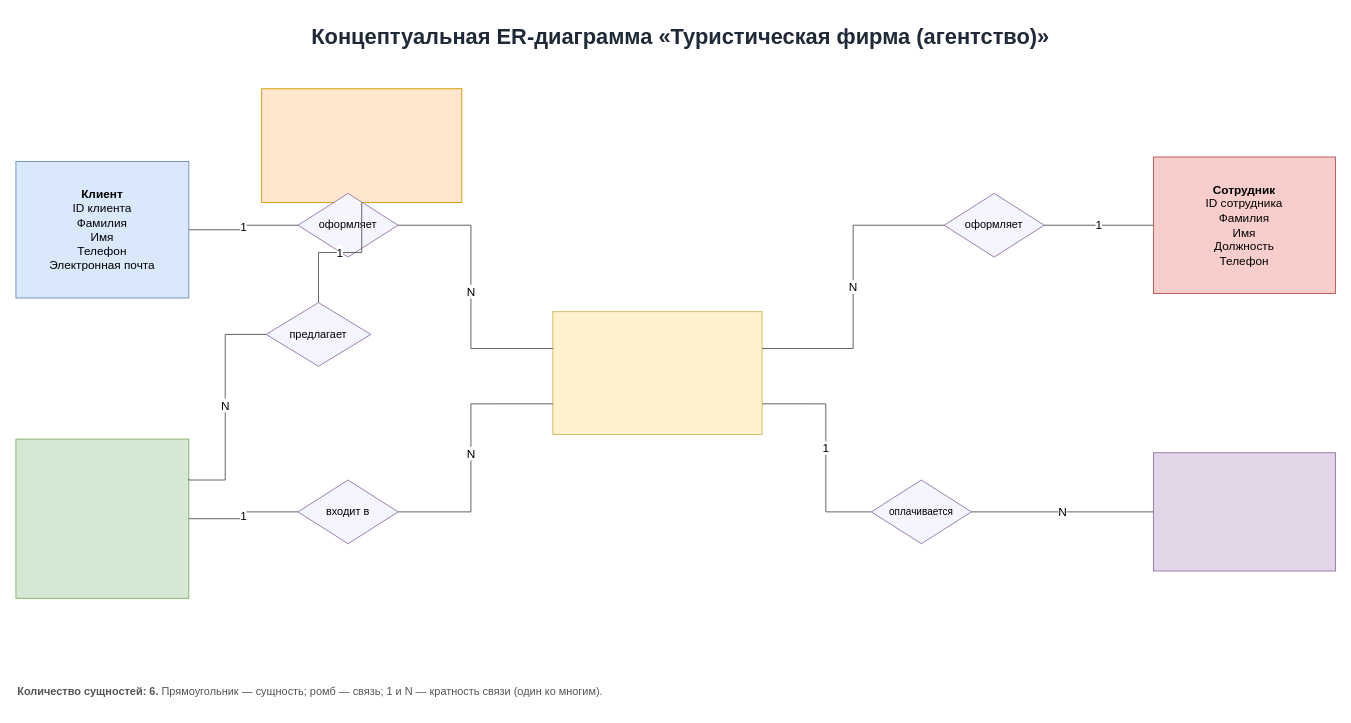
The diagram is 1351 pixels wide and 723 high, and some of its shapes have lost their labels. Each missing label, with the centre of its shape:
"Заказ ID заказа Дата оформления заказа Статус заказа" belongs at point 657,373.
"Оплата ID оплаты Дата оплаты Сумма оплаты Способ оплаты" belongs at point 1244,511.
"Тур ID тура Название тура Страна Город Дата начала Дата окончания Стоимость" belongs at point 102,518.
"Туроператор ID туроператора Название компании Телефон Электронная почта" belongs at point 361,145.
